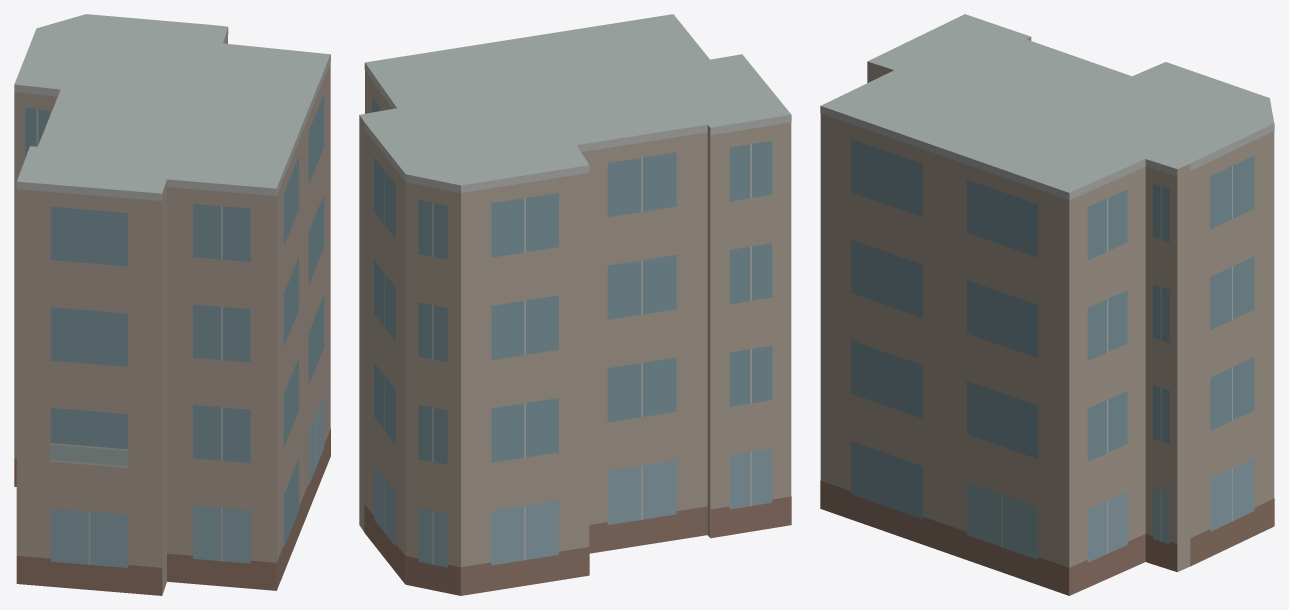
The model's file is survey-upis-32473706.glb.
3 renders of one model, left to right at view 1: azimuth 30°, elevation 25°; view 2: azimuth 150°, elevation 25°; view 3: azimuth 270°, elevation 25°, orthographic. The views are drawn at different scales.
Parts seen in each view (by area): view 1: survey-upis-32473706.tmp; view 2: survey-upis-32473706.tmp; view 3: survey-upis-32473706.tmp.
Boxes of the visible parts, x1,y1,x2,y2 form: survey-upis-32473706.tmp: [14, 14, 330, 595]; survey-upis-32473706.tmp: [359, 14, 791, 595]; survey-upis-32473706.tmp: [820, 14, 1274, 595].
Bounding box in the file's own units: 12.48 × 13.1 × 13.38.
